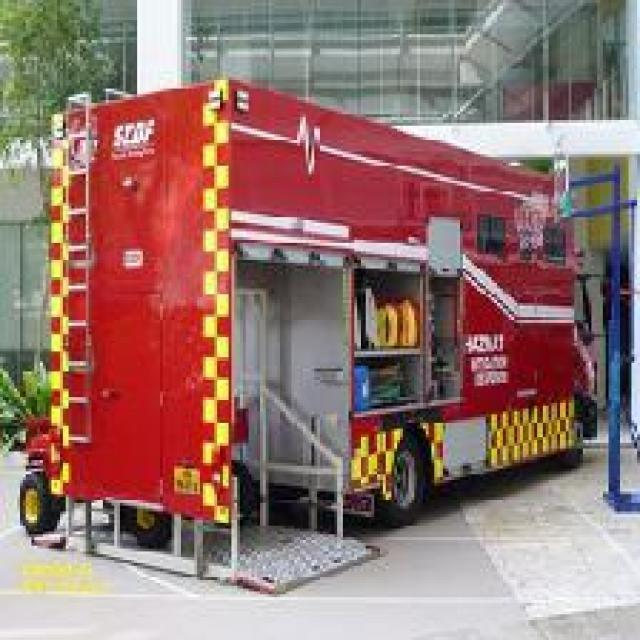emergency: (14, 71, 600, 588)
